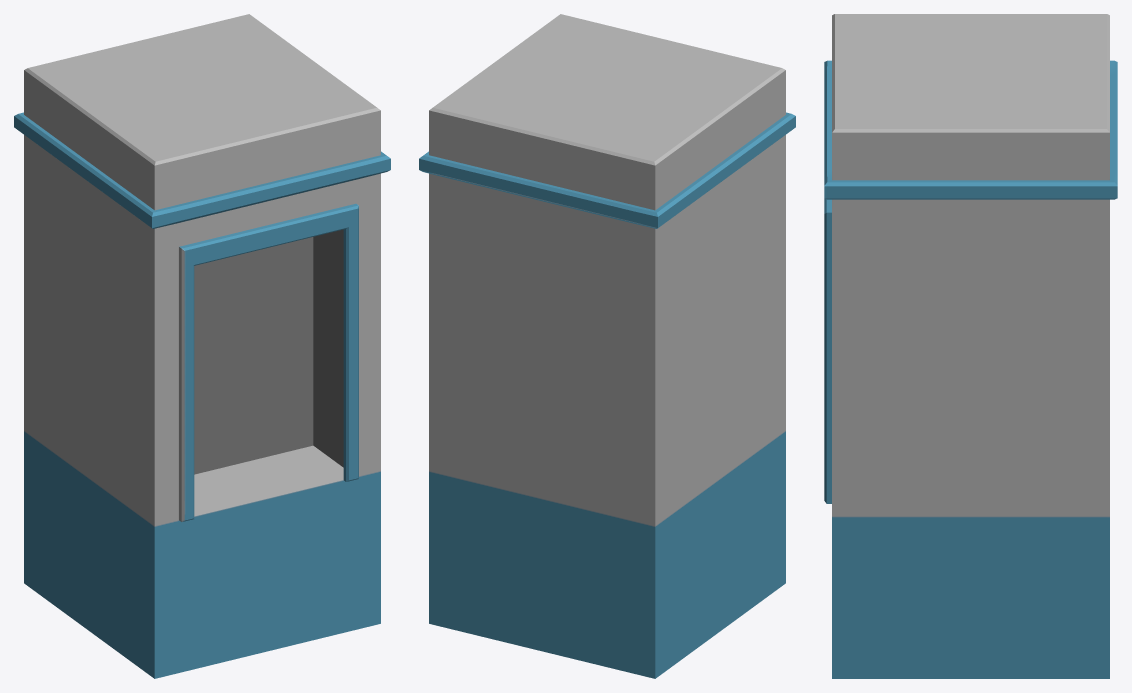
The model's file is blueGate.fbx.
The picture shows the model from 3 angles, left to right: view 1: azimuth 30°, elevation 25°; view 2: azimuth 150°, elevation 25°; view 3: azimuth 270°, elevation 25°; orthographic projection. The views are drawn at different scales.
Visible parts, largest first — view 1: blueGate; view 2: blueGate; view 3: blueGate.
Part boxes in pixels (bbox=[...]): blueGate: bbox=[14, 14, 390, 678]; blueGate: bbox=[419, 14, 795, 678]; blueGate: bbox=[824, 14, 1117, 678].
Size of the model in its own units: 106 by 218 by 106.
Materials: 1 (1 with a texture image).
